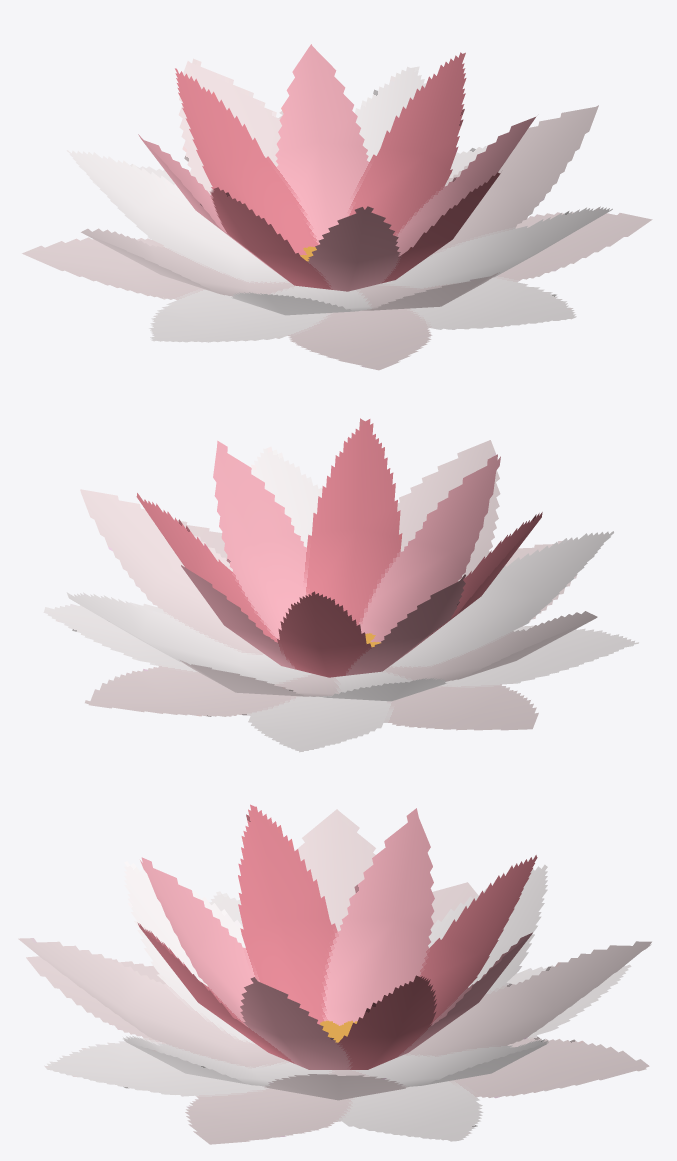
File: Water_Lily_Blossom_2.gltf
3 views of the same model, one above another, from view 1: azimuth 30°, elevation 25°; view 2: azimuth 150°, elevation 25°; view 3: azimuth 270°, elevation 25° (orthographic). The views are drawn at different scales.
Visible parts, largest first — view 1: Water_Lily_Blossom_2; view 2: Water_Lily_Blossom_2; view 3: Water_Lily_Blossom_2.
Part boxes in pixels (bbox=[...]): Water_Lily_Blossom_2: bbox=[22, 44, 652, 370]; Water_Lily_Blossom_2: bbox=[43, 418, 638, 752]; Water_Lily_Blossom_2: bbox=[18, 804, 651, 1144].
Bounding box in the file's own units: 20.29 × 6.49 × 20.29.
Materials: 1 (1 with a texture image).
